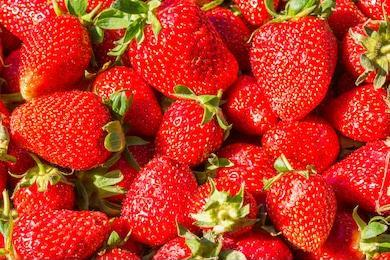Fresa: (125, 3, 243, 103), (247, 9, 340, 126), (4, 85, 125, 174), (117, 155, 210, 247), (15, 9, 93, 100), (262, 166, 341, 254), (5, 205, 112, 260), (153, 93, 228, 168), (93, 60, 164, 138), (324, 83, 390, 143)
